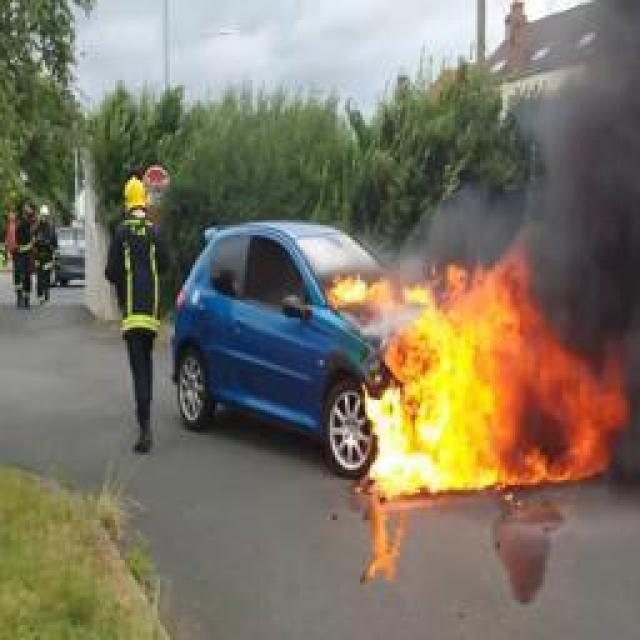Fire: (361, 228, 631, 502), (330, 274, 392, 308)
